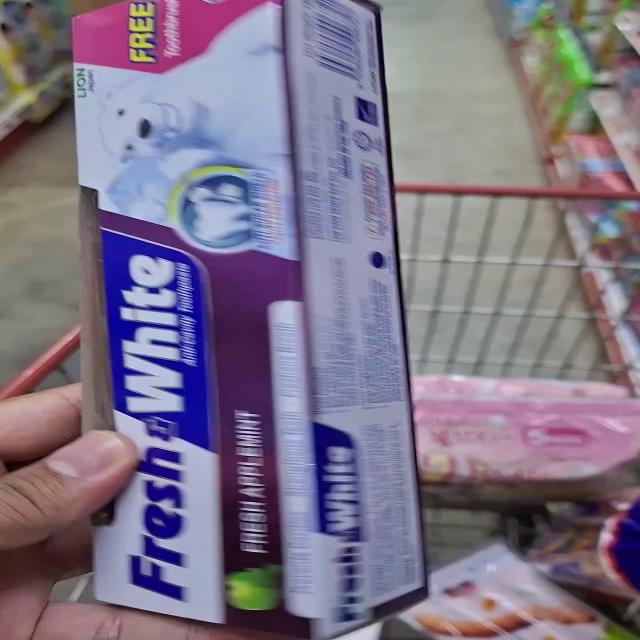Ubat Gigi: (52, 273, 449, 634), (63, 0, 428, 302)
